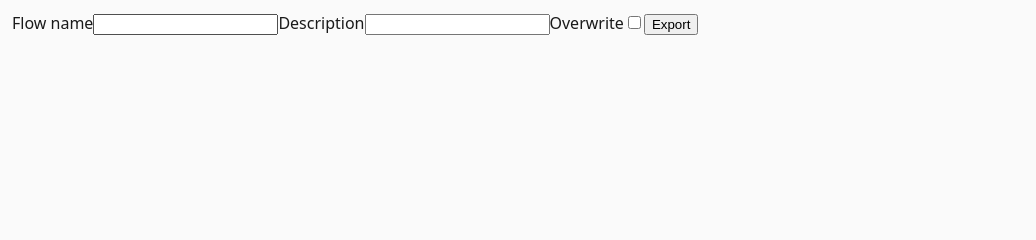
Test: SessionFlowExport — non-success step outcome warning › a step whose outcome is not success renders a visible warning indicator near that step's identifier
In the field with test id "session-flow-export-name-input": (186, 24) top-left (93, 14), bottom-right (278, 35), type "dlq-reconcile"
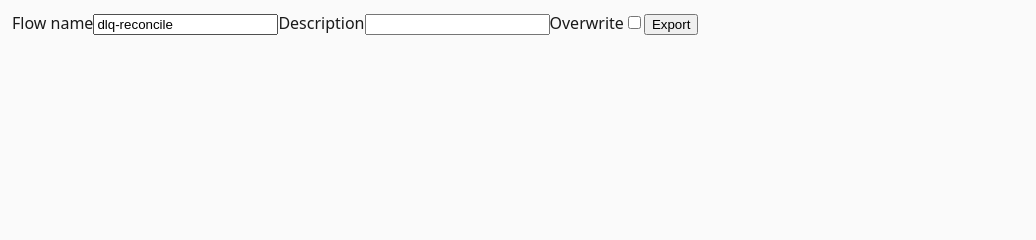
Click the button with test id "session-flow-export-submit": (671, 24) top-left (644, 14), bottom-right (698, 35)
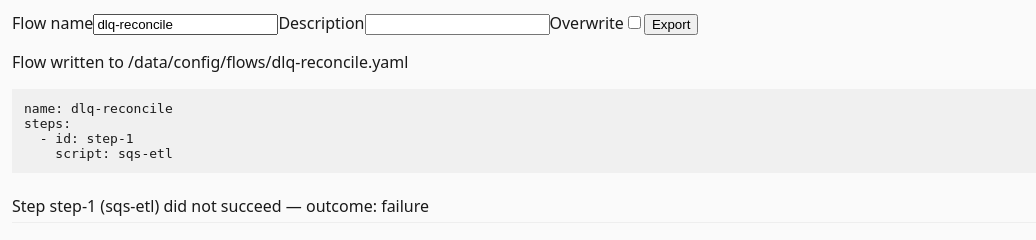
expect the element with test id "session-flow-export-result" is shown: met
